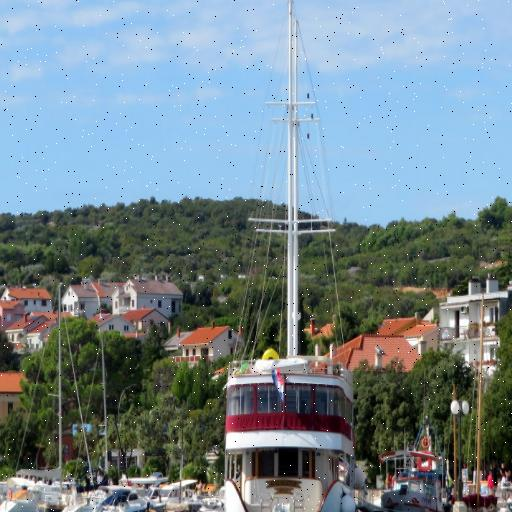cruises: (221, 320, 362, 512)
